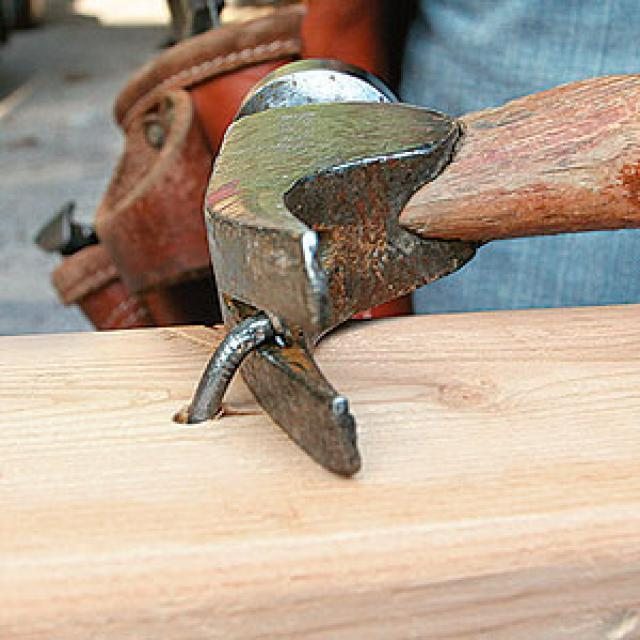hammer: (196, 59, 640, 492)
